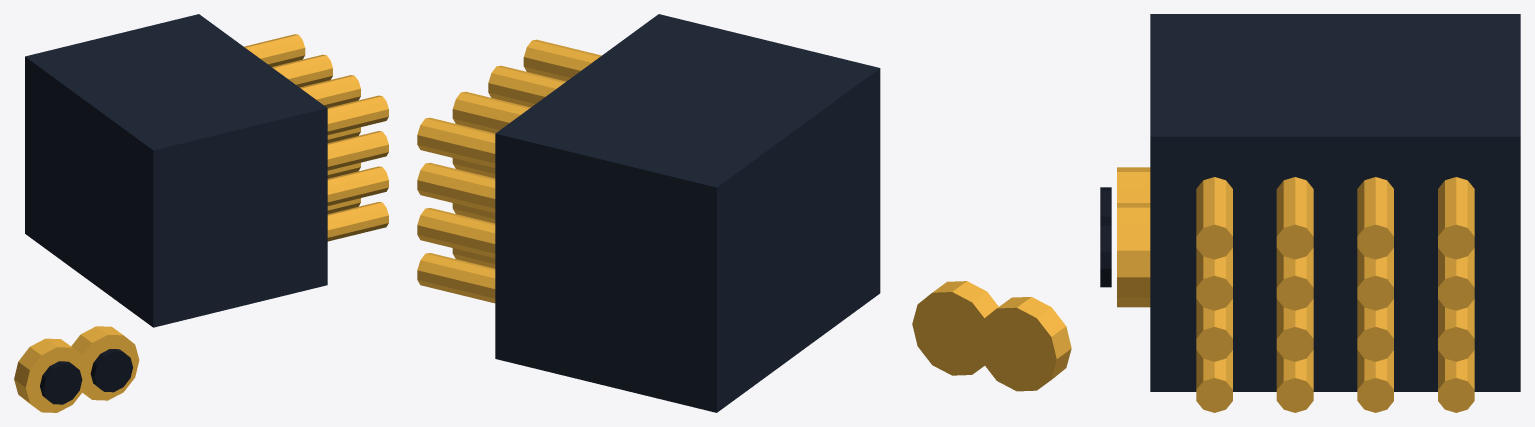
File: 60_L85_DockingElectricalUmbilicalCoupler.fbx
3 renders of one model, left to right at view 1: azimuth 30°, elevation 25°; view 2: azimuth 150°, elevation 25°; view 3: azimuth 270°, elevation 25°, orthographic. The views are drawn at different scales.
Visible parts, largest first — view 1: L85_DockingElectricalUmbilicalCoupler_Part_0000, L85_DockingElectricalUmbilicalCoupler_Part_0001, L85_DockingElectricalUmbilicalCoupler_Part_0002, L85_DockingElectricalUmbilicalCoupler_Part_0003, L85_DockingElectricalUmbilicalCoupler_Part_0005, L85_DockingElectricalUmbilicalCoupler_Part_0004, L85_DockingElectricalUmbilicalCoupler_Part_0006; view 2: L85_DockingElectricalUmbilicalCoupler_Part_0000, L85_DockingElectricalUmbilicalCoupler_Part_0001, L85_DockingElectricalUmbilicalCoupler_Part_0003, L85_DockingElectricalUmbilicalCoupler_Part_0005, L85_DockingElectricalUmbilicalCoupler_Part_0002; view 3: L85_DockingElectricalUmbilicalCoupler_Part_0000, L85_DockingElectricalUmbilicalCoupler_Part_0001, L85_DockingElectricalUmbilicalCoupler_Part_0002, L85_DockingElectricalUmbilicalCoupler_Part_0005, L85_DockingElectricalUmbilicalCoupler_Part_0003, L85_DockingElectricalUmbilicalCoupler_Part_0006, L85_DockingElectricalUmbilicalCoupler_Part_0004.
Part boxes in pixels (left/top/right/bottom): L85_DockingElectricalUmbilicalCoupler_Part_0000: left=25, top=14, right=327, bottom=327; L85_DockingElectricalUmbilicalCoupler_Part_0001: left=244, top=34, right=388, bottom=241; L85_DockingElectricalUmbilicalCoupler_Part_0002: left=300, top=75, right=388, bottom=134; L85_DockingElectricalUmbilicalCoupler_Part_0003: left=14, top=338, right=88, bottom=412; L85_DockingElectricalUmbilicalCoupler_Part_0005: left=71, top=326, right=139, bottom=400; L85_DockingElectricalUmbilicalCoupler_Part_0004: left=40, top=361, right=82, bottom=404; L85_DockingElectricalUmbilicalCoupler_Part_0006: left=90, top=349, right=132, bottom=392; L85_DockingElectricalUmbilicalCoupler_Part_0000: left=495, top=14, right=880, bottom=412; L85_DockingElectricalUmbilicalCoupler_Part_0001: left=417, top=91, right=530, bottom=303; L85_DockingElectricalUmbilicalCoupler_Part_0003: left=979, top=297, right=1071, bottom=391; L85_DockingElectricalUmbilicalCoupler_Part_0005: left=912, top=281, right=998, bottom=375; L85_DockingElectricalUmbilicalCoupler_Part_0002: left=488, top=39, right=601, bottom=107; L85_DockingElectricalUmbilicalCoupler_Part_0000: left=1150, top=14, right=1520, bottom=391; L85_DockingElectricalUmbilicalCoupler_Part_0001: left=1196, top=177, right=1474, bottom=412; L85_DockingElectricalUmbilicalCoupler_Part_0002: left=1196, top=177, right=1313, bottom=259; L85_DockingElectricalUmbilicalCoupler_Part_0005: left=1117, top=203, right=1150, bottom=307; L85_DockingElectricalUmbilicalCoupler_Part_0003: left=1117, top=167, right=1150, bottom=202; L85_DockingElectricalUmbilicalCoupler_Part_0006: left=1100, top=223, right=1111, bottom=287; L85_DockingElectricalUmbilicalCoupler_Part_0004: left=1100, top=187, right=1111, bottom=222.
Bounding box in the file's own units: 80.75 × 45 × 52.2.
